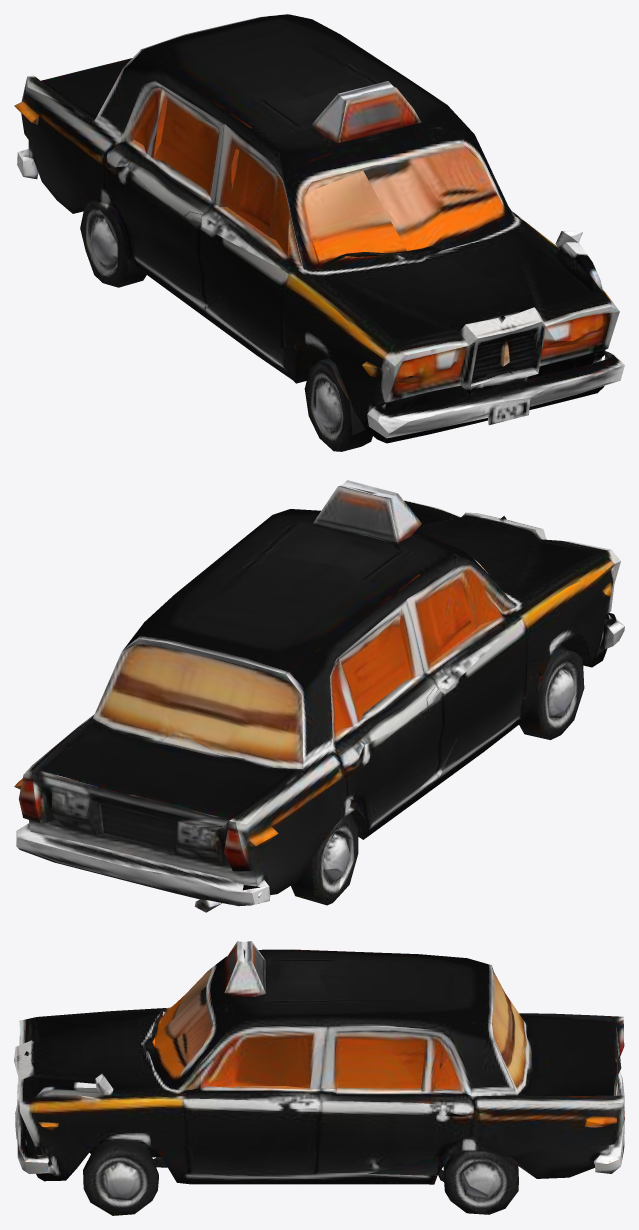
The model's file is taxi_black.glb.
3 views of the same model, one above another, from view 1: azimuth 30°, elevation 25°; view 2: azimuth 150°, elevation 25°; view 3: azimuth 270°, elevation 25° (orthographic). The views are drawn at different scales.
Parts seen in each view (by area): view 1: taxi_black; view 2: taxi_black; view 3: taxi_black.
Boxes of the visible parts, x1,y1,x2,y2 form: taxi_black: (14, 14, 624, 451); taxi_black: (14, 480, 624, 912); taxi_black: (14, 941, 624, 1215).
Size of the model in its own units: 1.77 by 1.88 by 4.7.
1 material, 1 textured.
